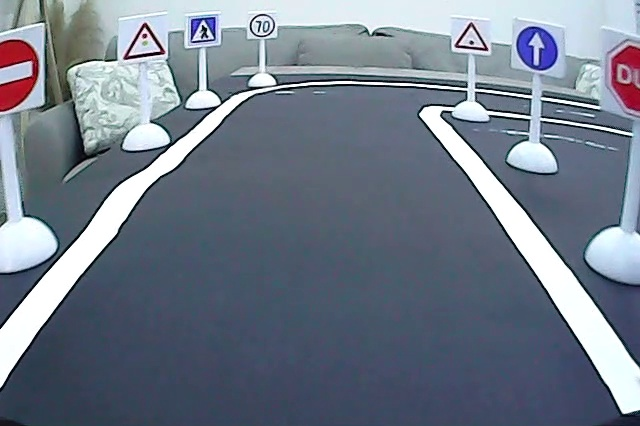green light: (452, 20, 490, 54)
pedestrian crossing: (189, 15, 220, 47)
red light: (121, 20, 169, 62)
speed limit 70: (249, 12, 276, 39)
